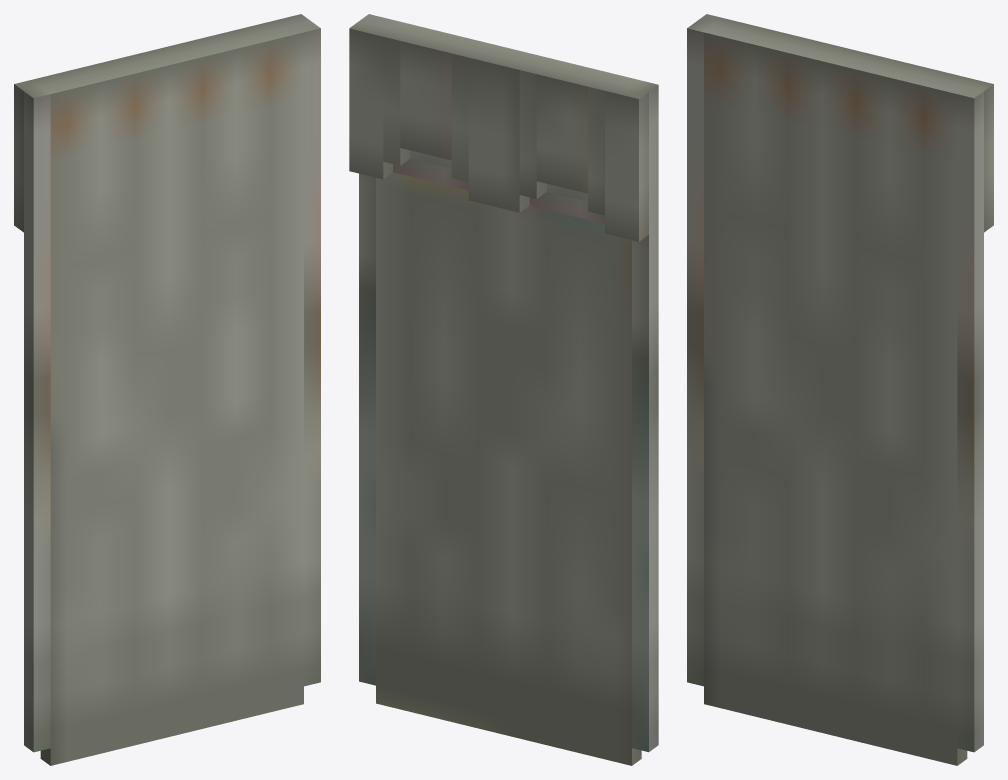
Rendered from CurtainGreyLeftSpliced_01.obj.
The picture shows the model from 3 angles, left to right: view 1: azimuth 30°, elevation 25°; view 2: azimuth 150°, elevation 25°; view 3: azimuth 330°, elevation 25°; orthographic projection.
Parts seen in each view (by area): view 1: CurtainGreyLeftSpliced_01; view 2: CurtainGreyLeftSpliced_01; view 3: CurtainGreyLeftSpliced_01.
Boxes of the visible parts, x1,y1,x2,y2 form: CurtainGreyLeftSpliced_01: [14, 14, 320, 765]; CurtainGreyLeftSpliced_01: [349, 14, 658, 765]; CurtainGreyLeftSpliced_01: [687, 14, 993, 765].
Size of the model in its own units: 0.85 by 1.9 by 0.1.
